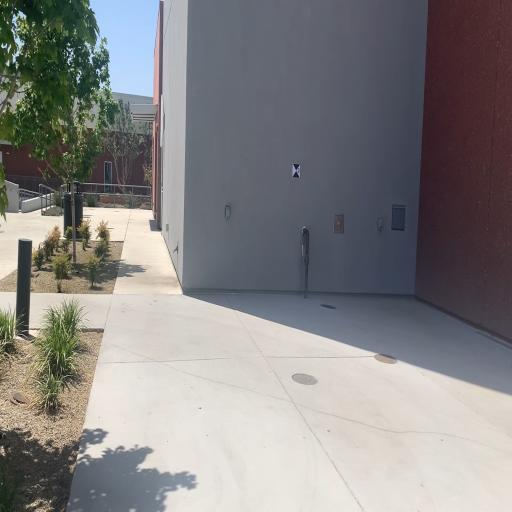target3: (292, 163, 300, 178)
